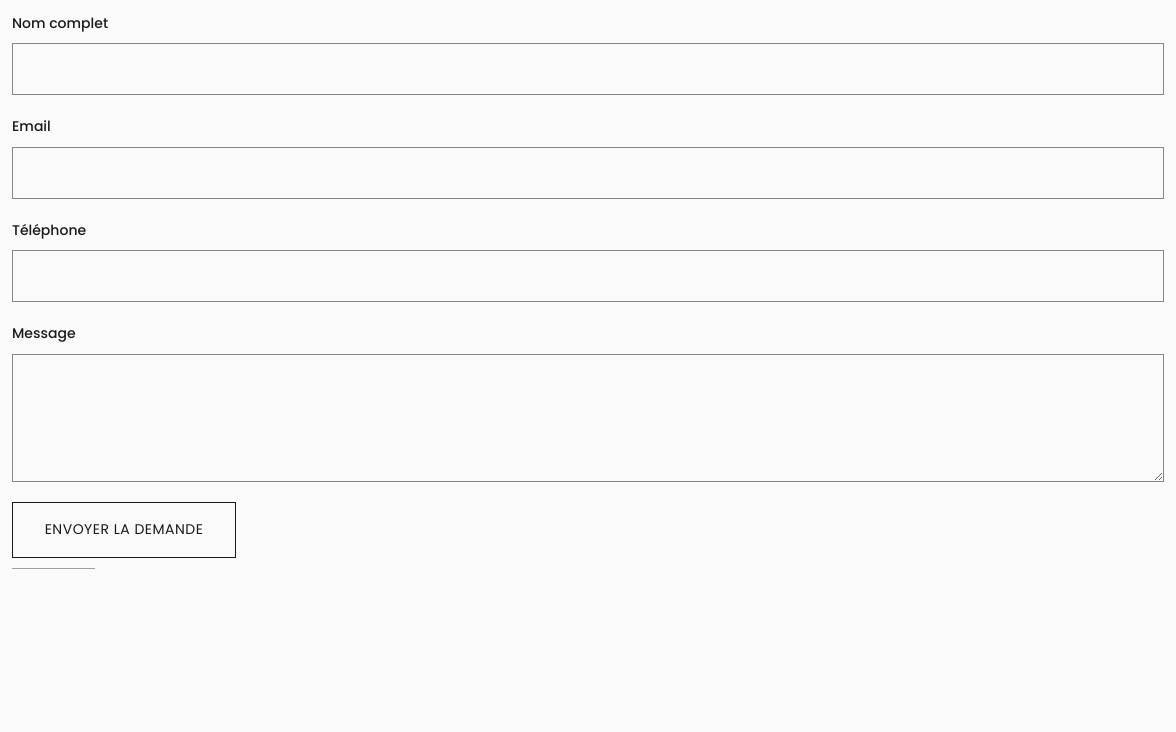
Scenario: ContactForm › sends valid form data and confirms success
Type "Service IT" into the field labelled "Nom complet" at (588, 69), box [12, 43, 1164, 96]
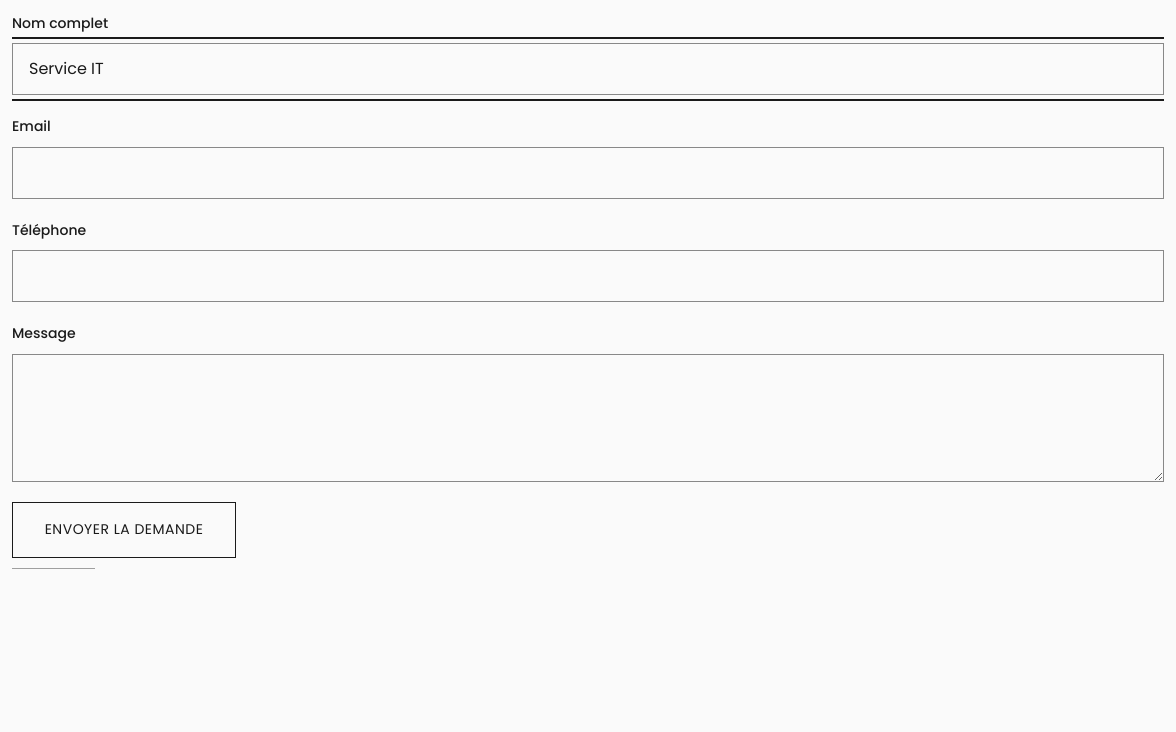
Type "service-it@casadilusso.ma" into the field labelled "Email" at (588, 173), box [12, 147, 1164, 199]
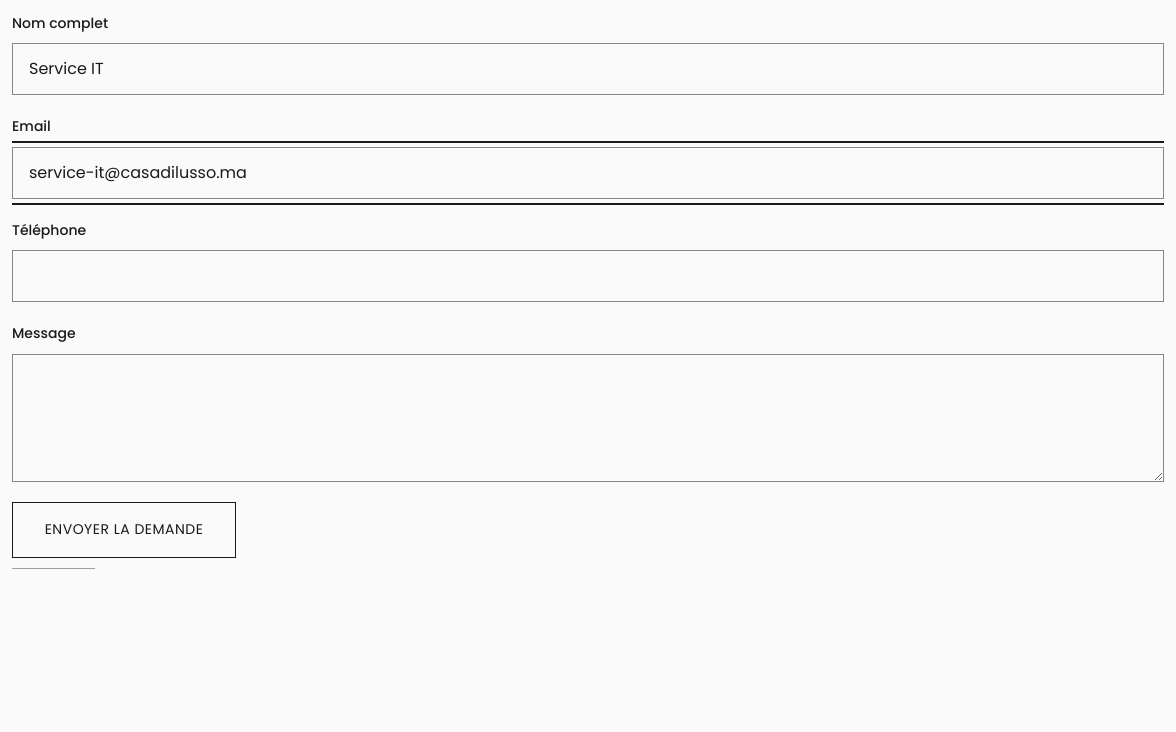
Type "+212600000000" into the field labelled "Téléphone" at (588, 276), box [12, 250, 1164, 302]
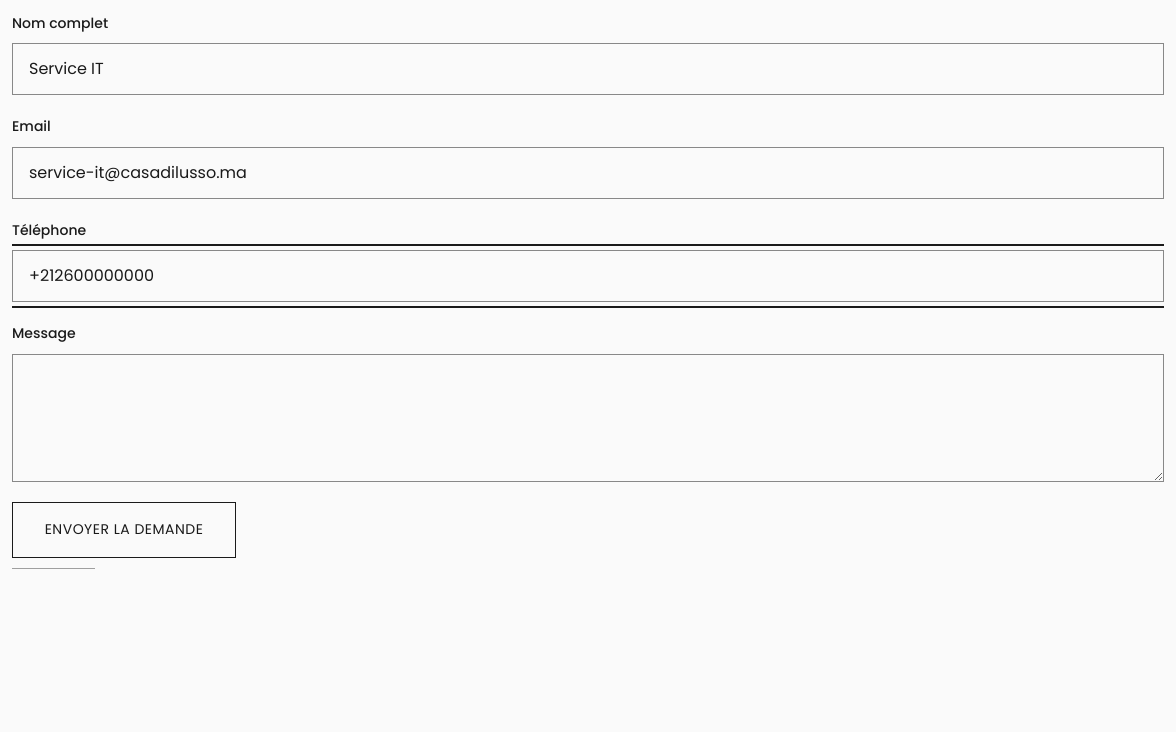
Type "Projet de showroom" into the text box labelled "Message" at (588, 418), box [12, 354, 1164, 482]
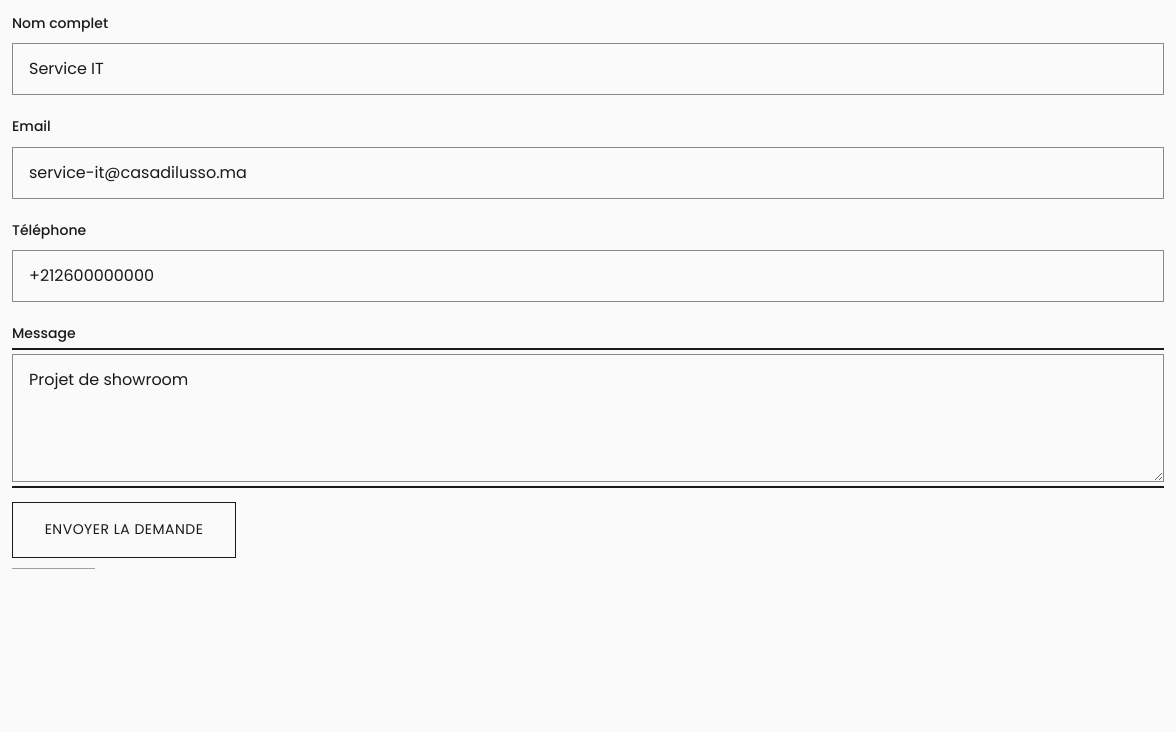
Click the button "ENVOYER LA DEMANDE" at (124, 530), box [12, 502, 236, 558]
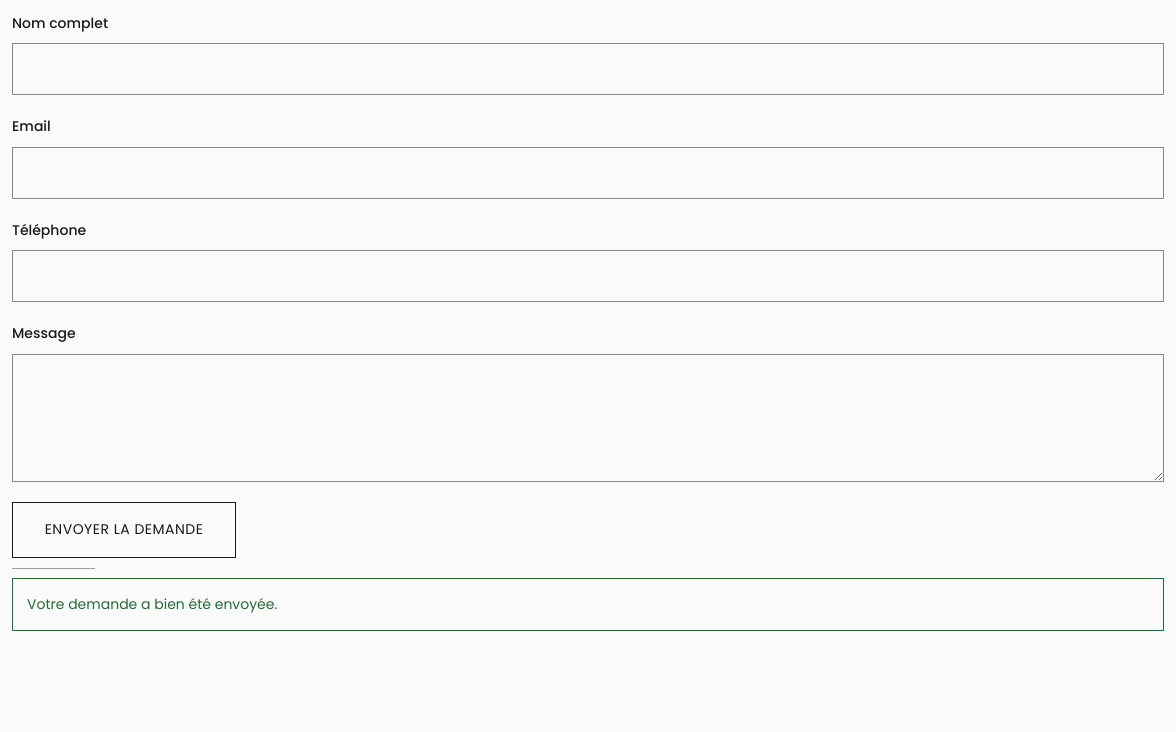
Check: the message reads "Votre demande a bien été envoyée.", box [27, 594, 277, 614]
